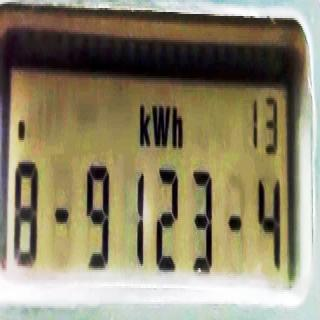-: (56, 200, 70, 234), (228, 207, 242, 240), (17, 111, 27, 145)
1: (134, 167, 147, 274), (250, 91, 258, 150)
2: (152, 159, 180, 276)
3: (190, 165, 215, 284), (263, 88, 279, 162)
4: (256, 168, 283, 284)
8: (11, 152, 40, 277)
9: (84, 151, 110, 277)
